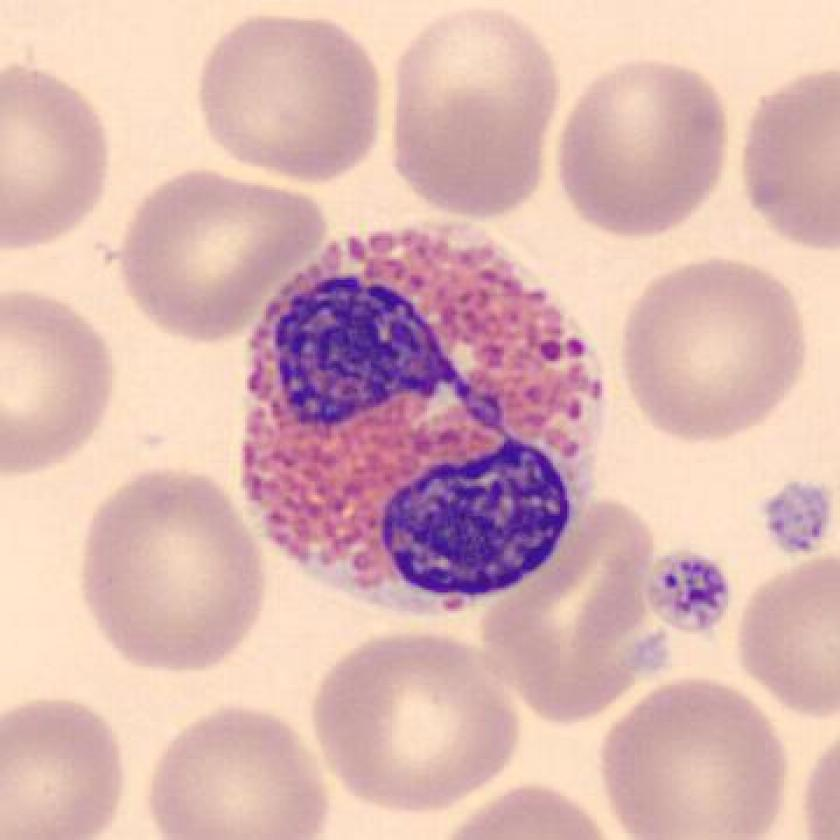eosinophil: (227, 214, 617, 628)
